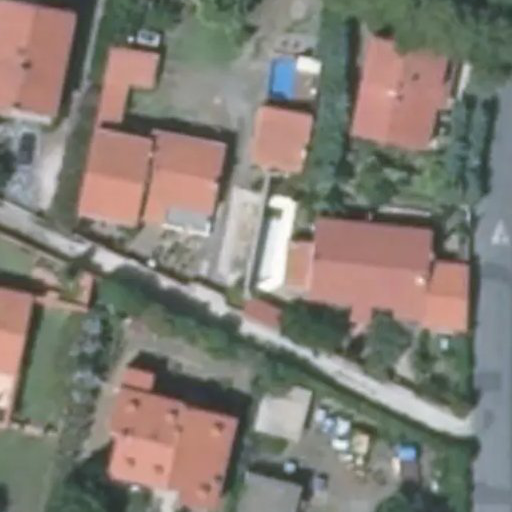pool: (270, 57, 294, 106)
